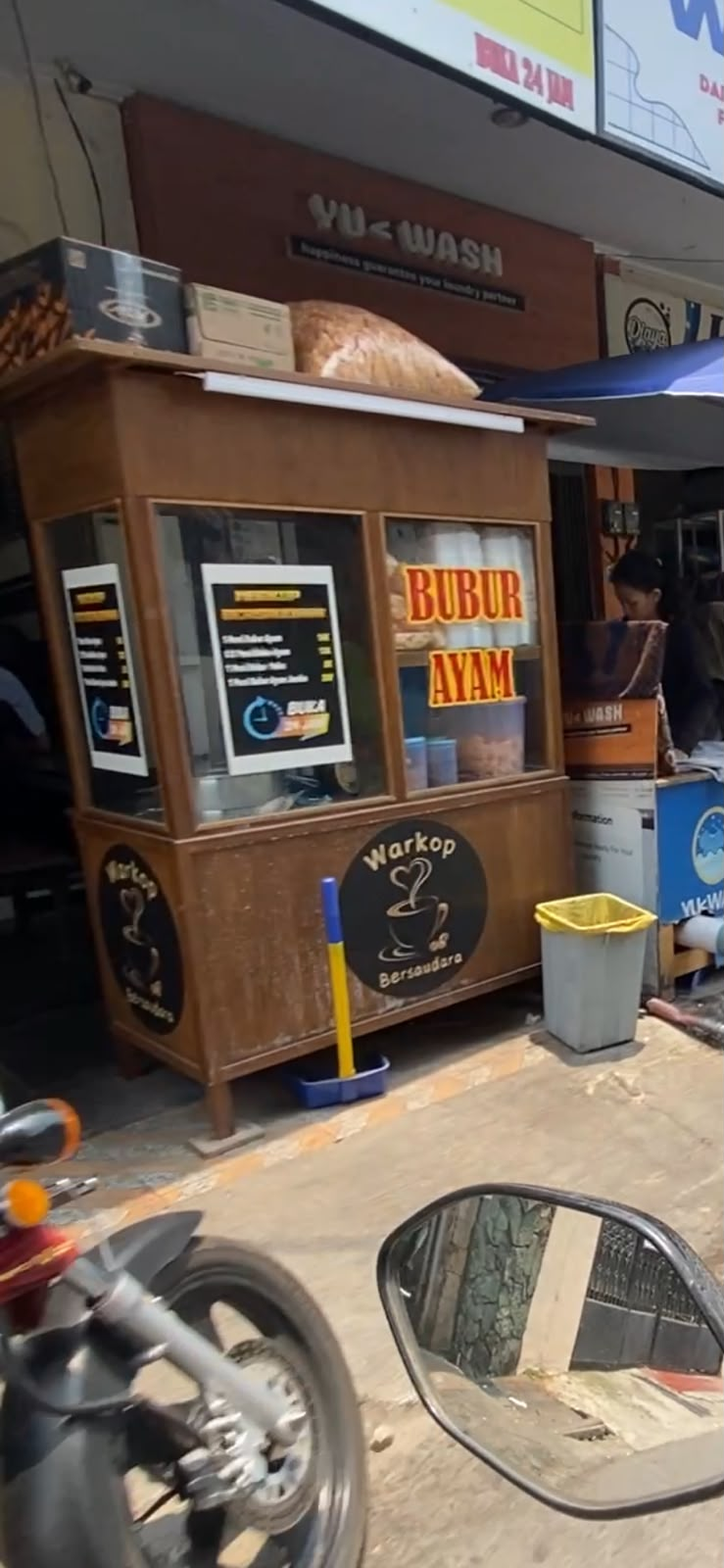gerobak: (0, 237, 571, 1139)
